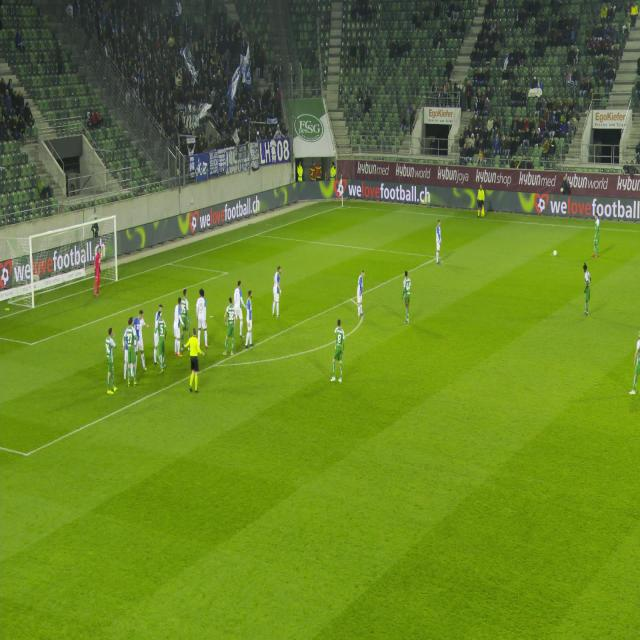Ball: (591, 202, 606, 258), (550, 242, 562, 266)
Player: (132, 296, 151, 390), (101, 322, 123, 403), (326, 313, 349, 390), (121, 314, 139, 395), (353, 263, 373, 330), (194, 282, 212, 356), (220, 293, 239, 363), (579, 254, 599, 320), (241, 287, 260, 355), (267, 259, 286, 325), (89, 238, 110, 296), (153, 314, 169, 389), (170, 294, 187, 357), (399, 264, 418, 318), (179, 276, 193, 346), (432, 214, 448, 272), (234, 273, 244, 306)
Referee: (175, 320, 209, 402), (474, 175, 490, 228)
